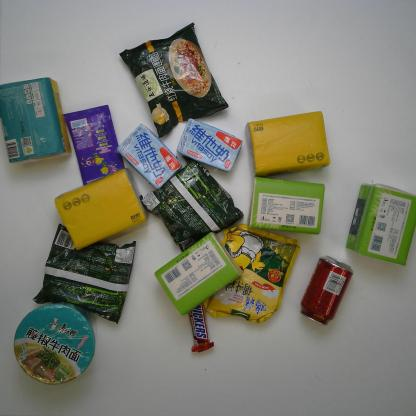Candy: (64, 103, 126, 186)
Chocolate: (187, 302, 214, 354)
Drink: (298, 253, 354, 327)
Instant Noodles: (118, 21, 231, 140), (32, 222, 138, 326), (140, 159, 244, 252), (12, 303, 97, 386)
Milk: (116, 123, 183, 189), (176, 116, 244, 172)
Seasoner: (203, 224, 302, 325)
Tissue: (53, 166, 148, 250), (154, 232, 244, 318), (0, 77, 72, 165), (343, 181, 416, 266), (244, 110, 332, 178), (246, 176, 326, 235)
